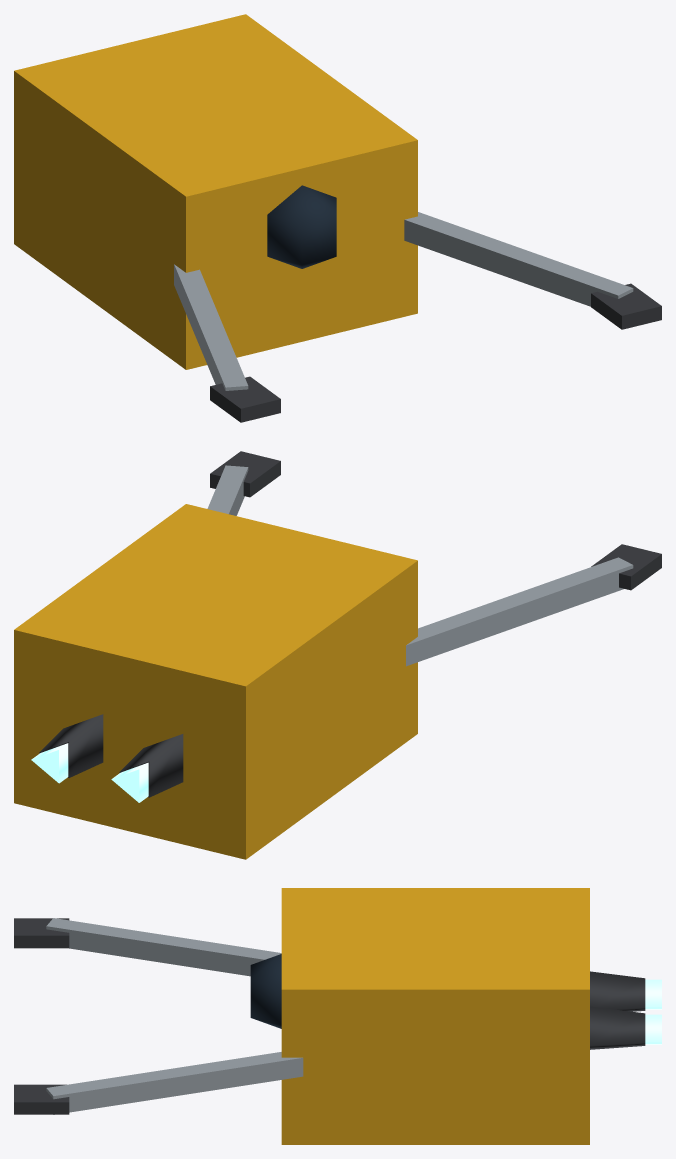
The model's file is space_ship_builder_drone_mk3_lod2.glb.
The picture shows the model from 3 angles, top to bottom: view 1: azimuth 30°, elevation 25°; view 2: azimuth 150°, elevation 25°; view 3: azimuth 270°, elevation 25°; orthographic projection. The views are drawn at different scales.
Parts seen in each view (by area): view 1: body, arm_1, arm_0; view 2: body, arm_0, engine_1, engine_0, arm_1; view 3: body, arm_1, arm_0, engine_1, engine_0.
Part boxes in pixels (x1,y1,x2,y2): body: (14,14,417,369); arm_1: (404,212,661,329); arm_0: (174,264,280,422); body: (14,504,417,859); arm_0: (406,544,661,666); engine_1: (31,714,103,783); engine_0: (111,734,183,802); arm_1: (207,451,280,515); body: (250,888,589,1144); arm_1: (14,1052,303,1114); arm_0: (14,918,281,976); engine_1: (590,1006,661,1049); engine_0: (590,971,661,1011).
Size of the model in its own units: 3.15 by 1.24 by 4.69.
